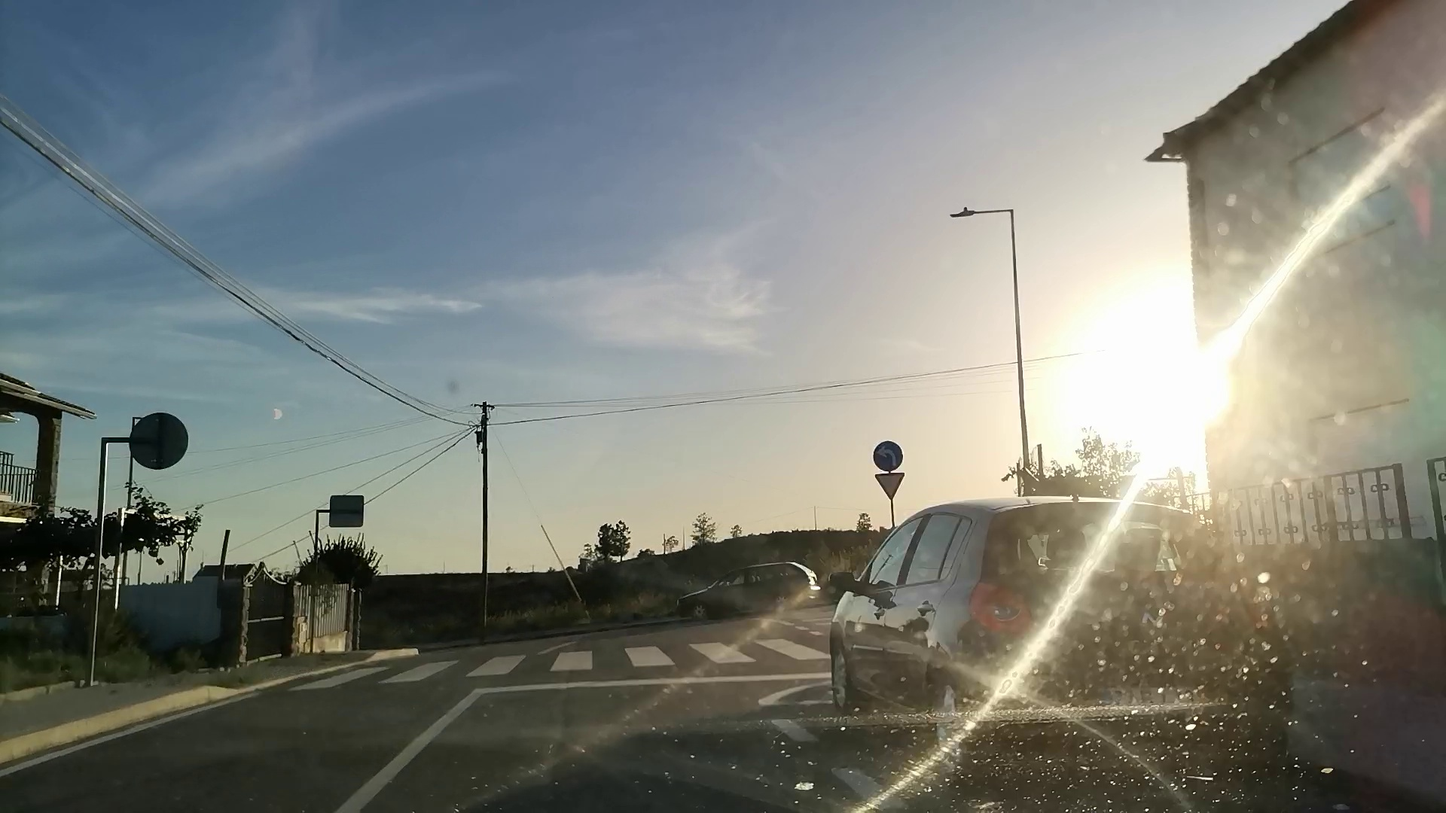Stairs: (295, 636, 831, 685)
